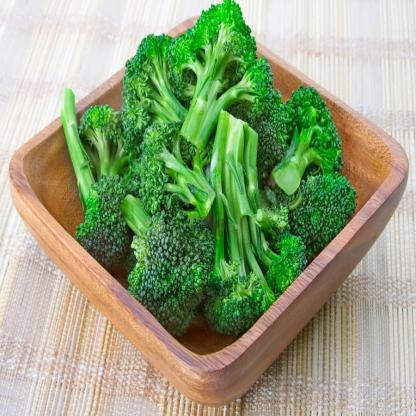broccoli: (60, 0, 358, 337)
